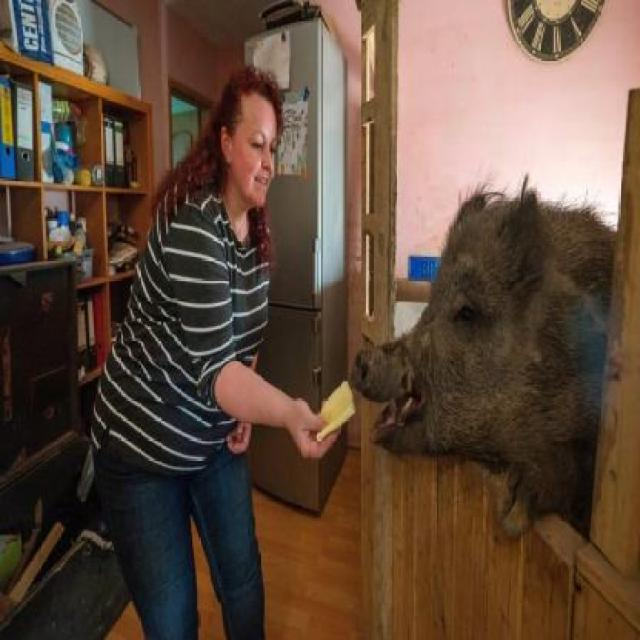wildboar: (349, 175, 640, 548)
